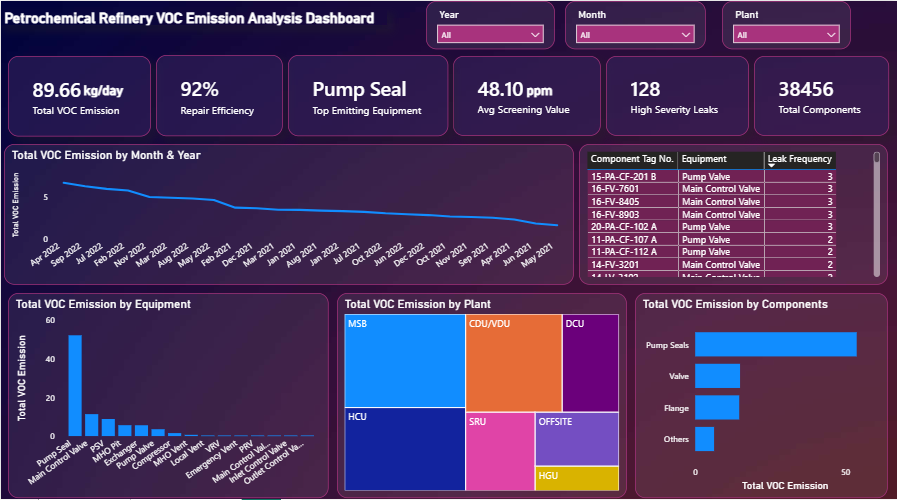

What the dashboard file says about the page in this screenshot:
{"tool":"powerbi","page":{"name":"Overview","canvas":[1280,720],"ordinal":0},"visuals":[{"type":"textbox","title":"Petrochemical Refinery VOC Emission Analysis Dashboard","box":[0,13.2,550.9,21.9],"z":0},{"type":"cardVisual","fields":{"Data":["Measures_List.Total VOC Emission"]},"box":[4.3,79.4,212.6,113.4],"z":1000},{"type":"cardVisual","fields":{"Data":["Measures_List.Leak Count"]},"box":[410.2,79.4,160.2,113.4],"z":2000},{"type":"cardVisual","fields":{"Data":["Measures_List.Leak %"]},"box":[227.1,79.4,172.9,113.4],"z":3000},{"type":"cardVisual","fields":{"Data":["Measures_List.Avg Screening Value"]},"box":[580.5,79.4,216.9,113.4],"z":4000},{"type":"cardVisual","fields":{"Data":["Measures_List.High Severity Leaks"]},"box":[807.6,79.4,212.6,113.4],"z":5000},{"type":"cardVisual","fields":{"Data":["Measures_List.Components Inspected"]},"box":[1030.4,79.4,236.7,113.4],"z":6000},{"type":"lineChart","fields":{"Y":["Measures_List.Total VOC Emission"],"Category":["Dates.Month & Year"]},"box":[4.3,204.1,813.5,201.3],"z":6001},{"type":"tableEx","fields":{"Values":["Plant_Data.Component Tag No.","Plant_Data.Equipment","Measures_List.Leak Frequency"]},"box":[826.3,204.1,440.8,201.3],"z":6002},{"type":"clusteredColumnChart","fields":{"Category":["Plant_Data.Equipment"],"Y":["Measures_List.Total VOC Emission"]},"box":[9.9,416.7,457.8,293.4],"z":6003},{"type":"treemap","fields":{"Group":["Plant_Data.Plant"],"Values":["Measures_List.Total VOC Emission"]},"box":[479.8,416.7,413.9,293.4],"z":6004},{"type":"barChart","fields":{"Category":["Plant_Data.Components"],"Y":["Measures_List.Total VOC Emission"]},"box":[905.7,416.7,361.4,293.4],"z":6005},{"type":"slicer","fields":{"Values":["Dates.Month Name"]},"box":[805,0,201.3,69.4],"z":6006},{"type":"slicer","fields":{"Values":["Dates.Year"]},"box":[606.6,0,184.3,69.4],"z":6007},{"type":"slicer","fields":{"Values":["Plant_Data.Plant"]},"box":[1030.4,0,184.3,69.4],"z":6008},{"type":"textbox","title":"ppm","box":[686.8,115.4,89.1,30.7],"z":6009}]}

Visuals, with their boxes in screenshot pixels (x1, y1, x2, y2), scaled from the page's 1280x720 canvas onto the 897x500 screenshot:
"Petrochemical Refinery VOC Emission Analysis Dashboard" textbox: BBox(0, 9, 386, 24)
cardVisual - Measures_List.Total VOC Emission: BBox(3, 55, 152, 134)
cardVisual - Measures_List.Leak Count: BBox(287, 55, 400, 134)
cardVisual - Measures_List.Leak %: BBox(159, 55, 280, 134)
cardVisual - Measures_List.Avg Screening Value: BBox(407, 55, 559, 134)
cardVisual - Measures_List.High Severity Leaks: BBox(566, 55, 715, 134)
cardVisual - Measures_List.Components Inspected: BBox(722, 55, 888, 134)
lineChart - Measures_List.Total VOC Emission x Dates.Month & Year: BBox(3, 142, 573, 282)
tableEx - Plant_Data.Component Tag No. x Plant_Data.Equipment: BBox(579, 142, 888, 282)
clusteredColumnChart - Plant_Data.Equipment x Measures_List.Total VOC Emission: BBox(7, 289, 328, 493)
treemap - Plant_Data.Plant x Measures_List.Total VOC Emission: BBox(336, 289, 626, 493)
barChart - Plant_Data.Components x Measures_List.Total VOC Emission: BBox(635, 289, 888, 493)
slicer - Dates.Month Name: BBox(564, 0, 705, 48)
slicer - Dates.Year: BBox(425, 0, 554, 48)
slicer - Plant_Data.Plant: BBox(722, 0, 851, 48)
"ppm" textbox: BBox(481, 80, 544, 101)
